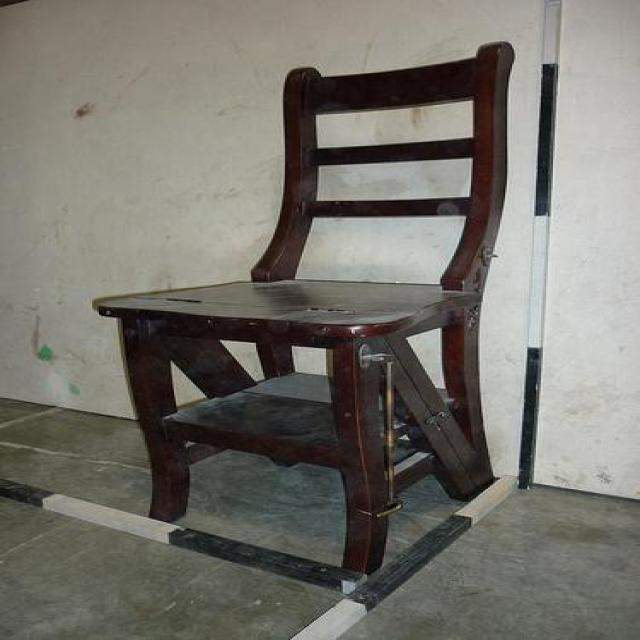chair: (90, 39, 516, 578)
